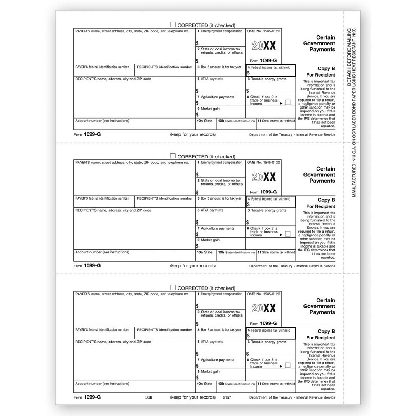checkbox: (169, 20, 177, 27), (168, 152, 176, 159), (169, 283, 177, 290), (283, 362, 291, 369), (284, 230, 292, 237), (284, 99, 292, 106)
textbox: (72, 74, 196, 119), (72, 337, 196, 382), (72, 206, 196, 250), (72, 27, 197, 65), (72, 290, 197, 328), (72, 158, 196, 196), (71, 248, 197, 263), (72, 116, 197, 131), (71, 379, 197, 393), (193, 74, 247, 96), (193, 176, 247, 198), (193, 289, 247, 311), (194, 26, 247, 48), (194, 44, 247, 66), (194, 158, 247, 180), (244, 75, 297, 97), (194, 307, 247, 329), (194, 337, 247, 359), (244, 337, 297, 359), (193, 206, 247, 227), (244, 206, 297, 227), (131, 193, 197, 209), (71, 62, 136, 78), (72, 193, 137, 209), (71, 324, 136, 340), (132, 325, 197, 341), (131, 62, 197, 77), (193, 62, 248, 78), (243, 62, 298, 78), (193, 92, 248, 108), (193, 194, 248, 210), (243, 194, 298, 210), (192, 325, 247, 341), (243, 325, 298, 341), (193, 104, 248, 119), (244, 104, 299, 119), (193, 223, 248, 238), (192, 235, 247, 250), (193, 355, 248, 370), (192, 367, 247, 382), (215, 116, 258, 132), (215, 247, 258, 263), (255, 247, 297, 263), (255, 378, 297, 394), (254, 116, 297, 131), (215, 379, 258, 394), (193, 116, 219, 131), (193, 379, 219, 394), (193, 248, 218, 263)
